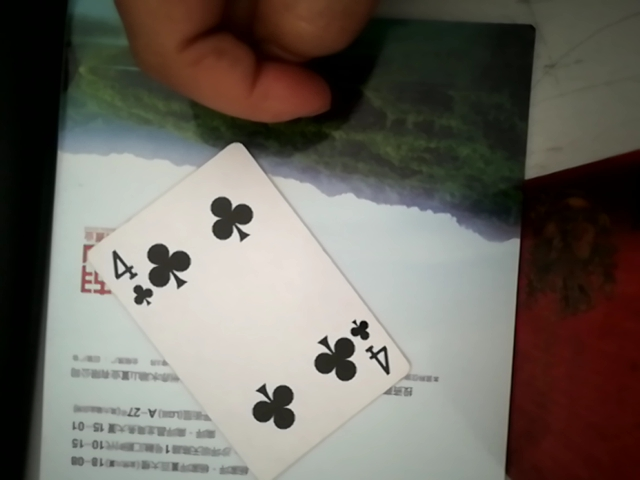mh 4: (57, 140, 416, 472)
